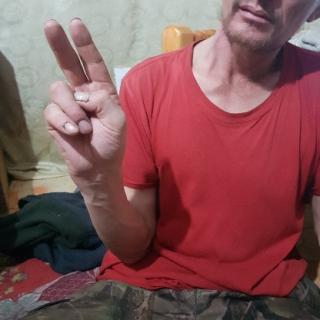TA: (37, 13, 129, 181)
